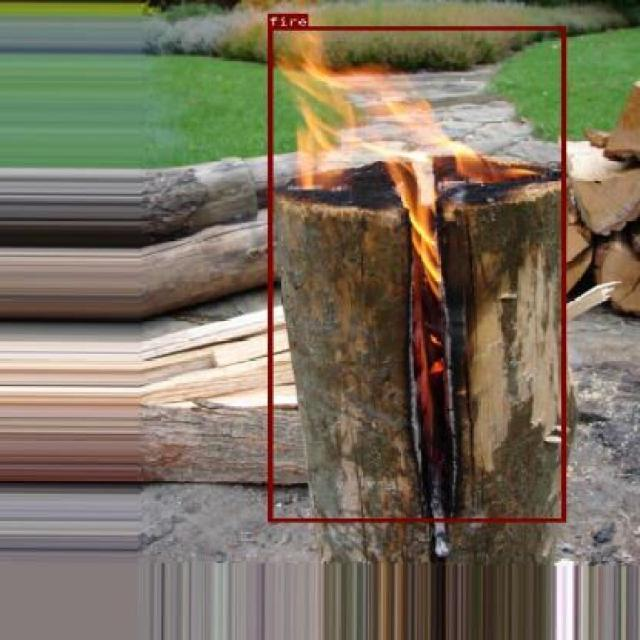Fire: (266, 26, 566, 522)
